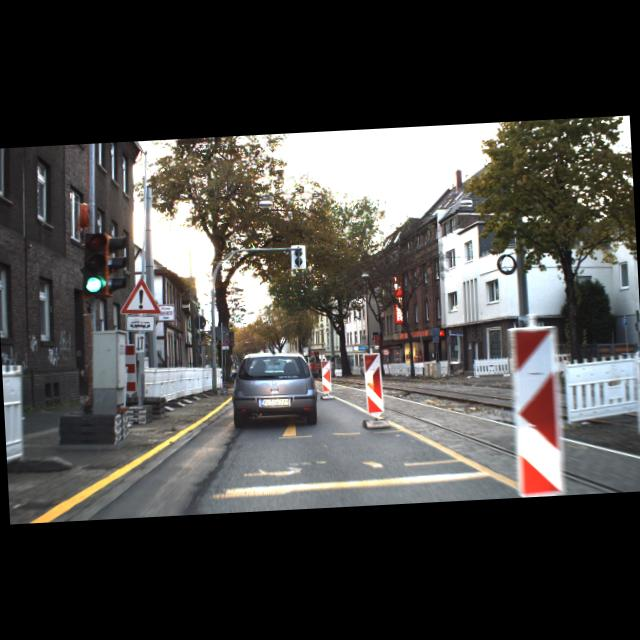danger: (118, 277, 161, 316)
